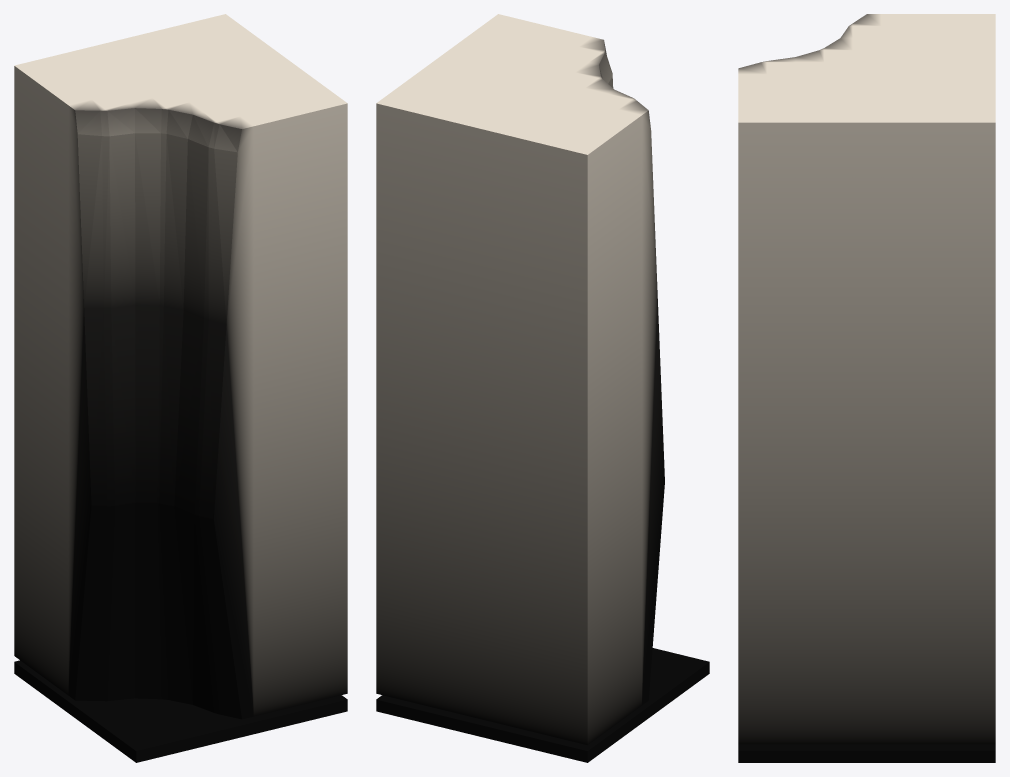
File: SM_VKI_Ground_Cave_XOOO_Q00.fbx
3 views of the same model, side by side, from view 1: azimuth 30°, elevation 25°; view 2: azimuth 150°, elevation 25°; view 3: azimuth 270°, elevation 25° (orthographic). The views are drawn at different scales.
Parts seen in each view (by area): view 1: SM_VKI_Ground_Cave_XOOO_Q00.001; view 2: SM_VKI_Ground_Cave_XOOO_Q00.001; view 3: SM_VKI_Ground_Cave_XOOO_Q00.001.
Part boxes in pixels (bbox=[...]): SM_VKI_Ground_Cave_XOOO_Q00.001: bbox=[14, 14, 347, 762]; SM_VKI_Ground_Cave_XOOO_Q00.001: bbox=[376, 14, 709, 762]; SM_VKI_Ground_Cave_XOOO_Q00.001: bbox=[738, 14, 995, 762].
Bounding box in the file's own units: 1.5 × 4.12 × 1.5.
